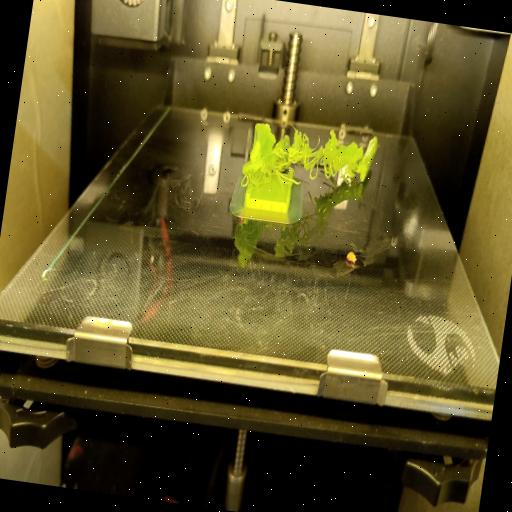spaghetti: (240, 117, 366, 192)
